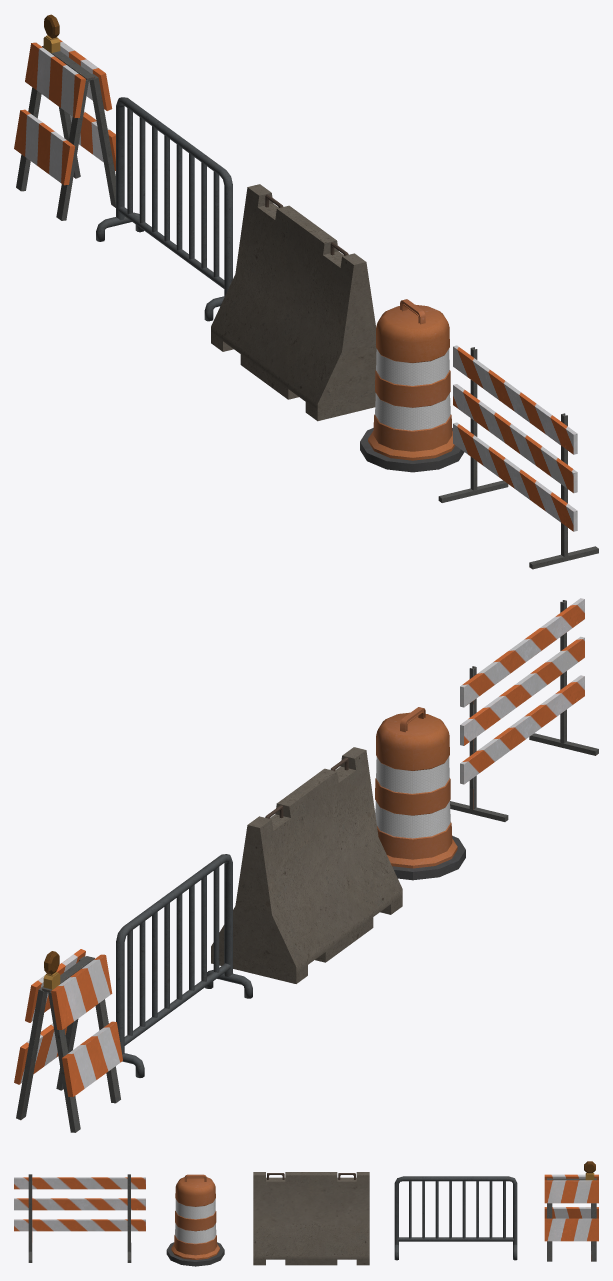
Rendered from road_props.glb.
3 renders of one model, top to bottom at view 1: azimuth 30°, elevation 25°; view 2: azimuth 150°, elevation 25°; view 3: azimuth 270°, elevation 25°, orthographic. The views are drawn at different scales.
Parts seen in each view (by area): view 1: jersey_barrier, traffic_cone_tall, traffic_sign, traffic_sign.002, Cube.009; view 2: jersey_barrier, traffic_cone_tall, traffic_sign, traffic_sign.002, Cube.009; view 3: jersey_barrier, traffic_sign, traffic_sign.002, traffic_cone_tall, Cube.009.
Part boxes in pixels (x1,y1,x2,y2): jersey_barrier: (211, 184, 376, 421); traffic_cone_tall: (360, 299, 464, 472); traffic_sign: (438, 345, 598, 569); traffic_sign.002: (14, 14, 115, 220); Cube.009: (96, 97, 232, 321); jersey_barrier: (211, 747, 402, 983); traffic_cone_tall: (375, 707, 465, 880); traffic_sign: (450, 598, 598, 821); traffic_sign.002: (14, 949, 122, 1132); Cube.009: (116, 854, 252, 1077); jersey_barrier: (253, 1172, 369, 1265); traffic_sign: (14, 1174, 145, 1262); traffic_sign.002: (544, 1161, 598, 1261); traffic_cone_tall: (166, 1174, 224, 1266); Cube.009: (394, 1176, 517, 1260).
Bounding box in the file's own units: 152 × 268 × 1537.
Materials: 5 (5 with a texture image).
